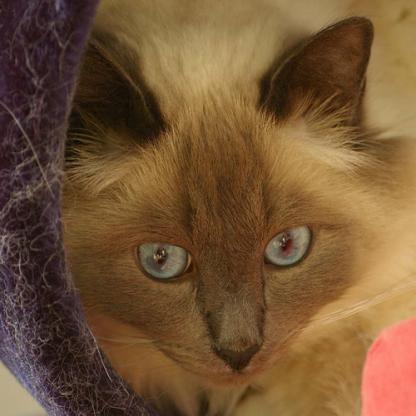cat: (58, 0, 416, 415)
